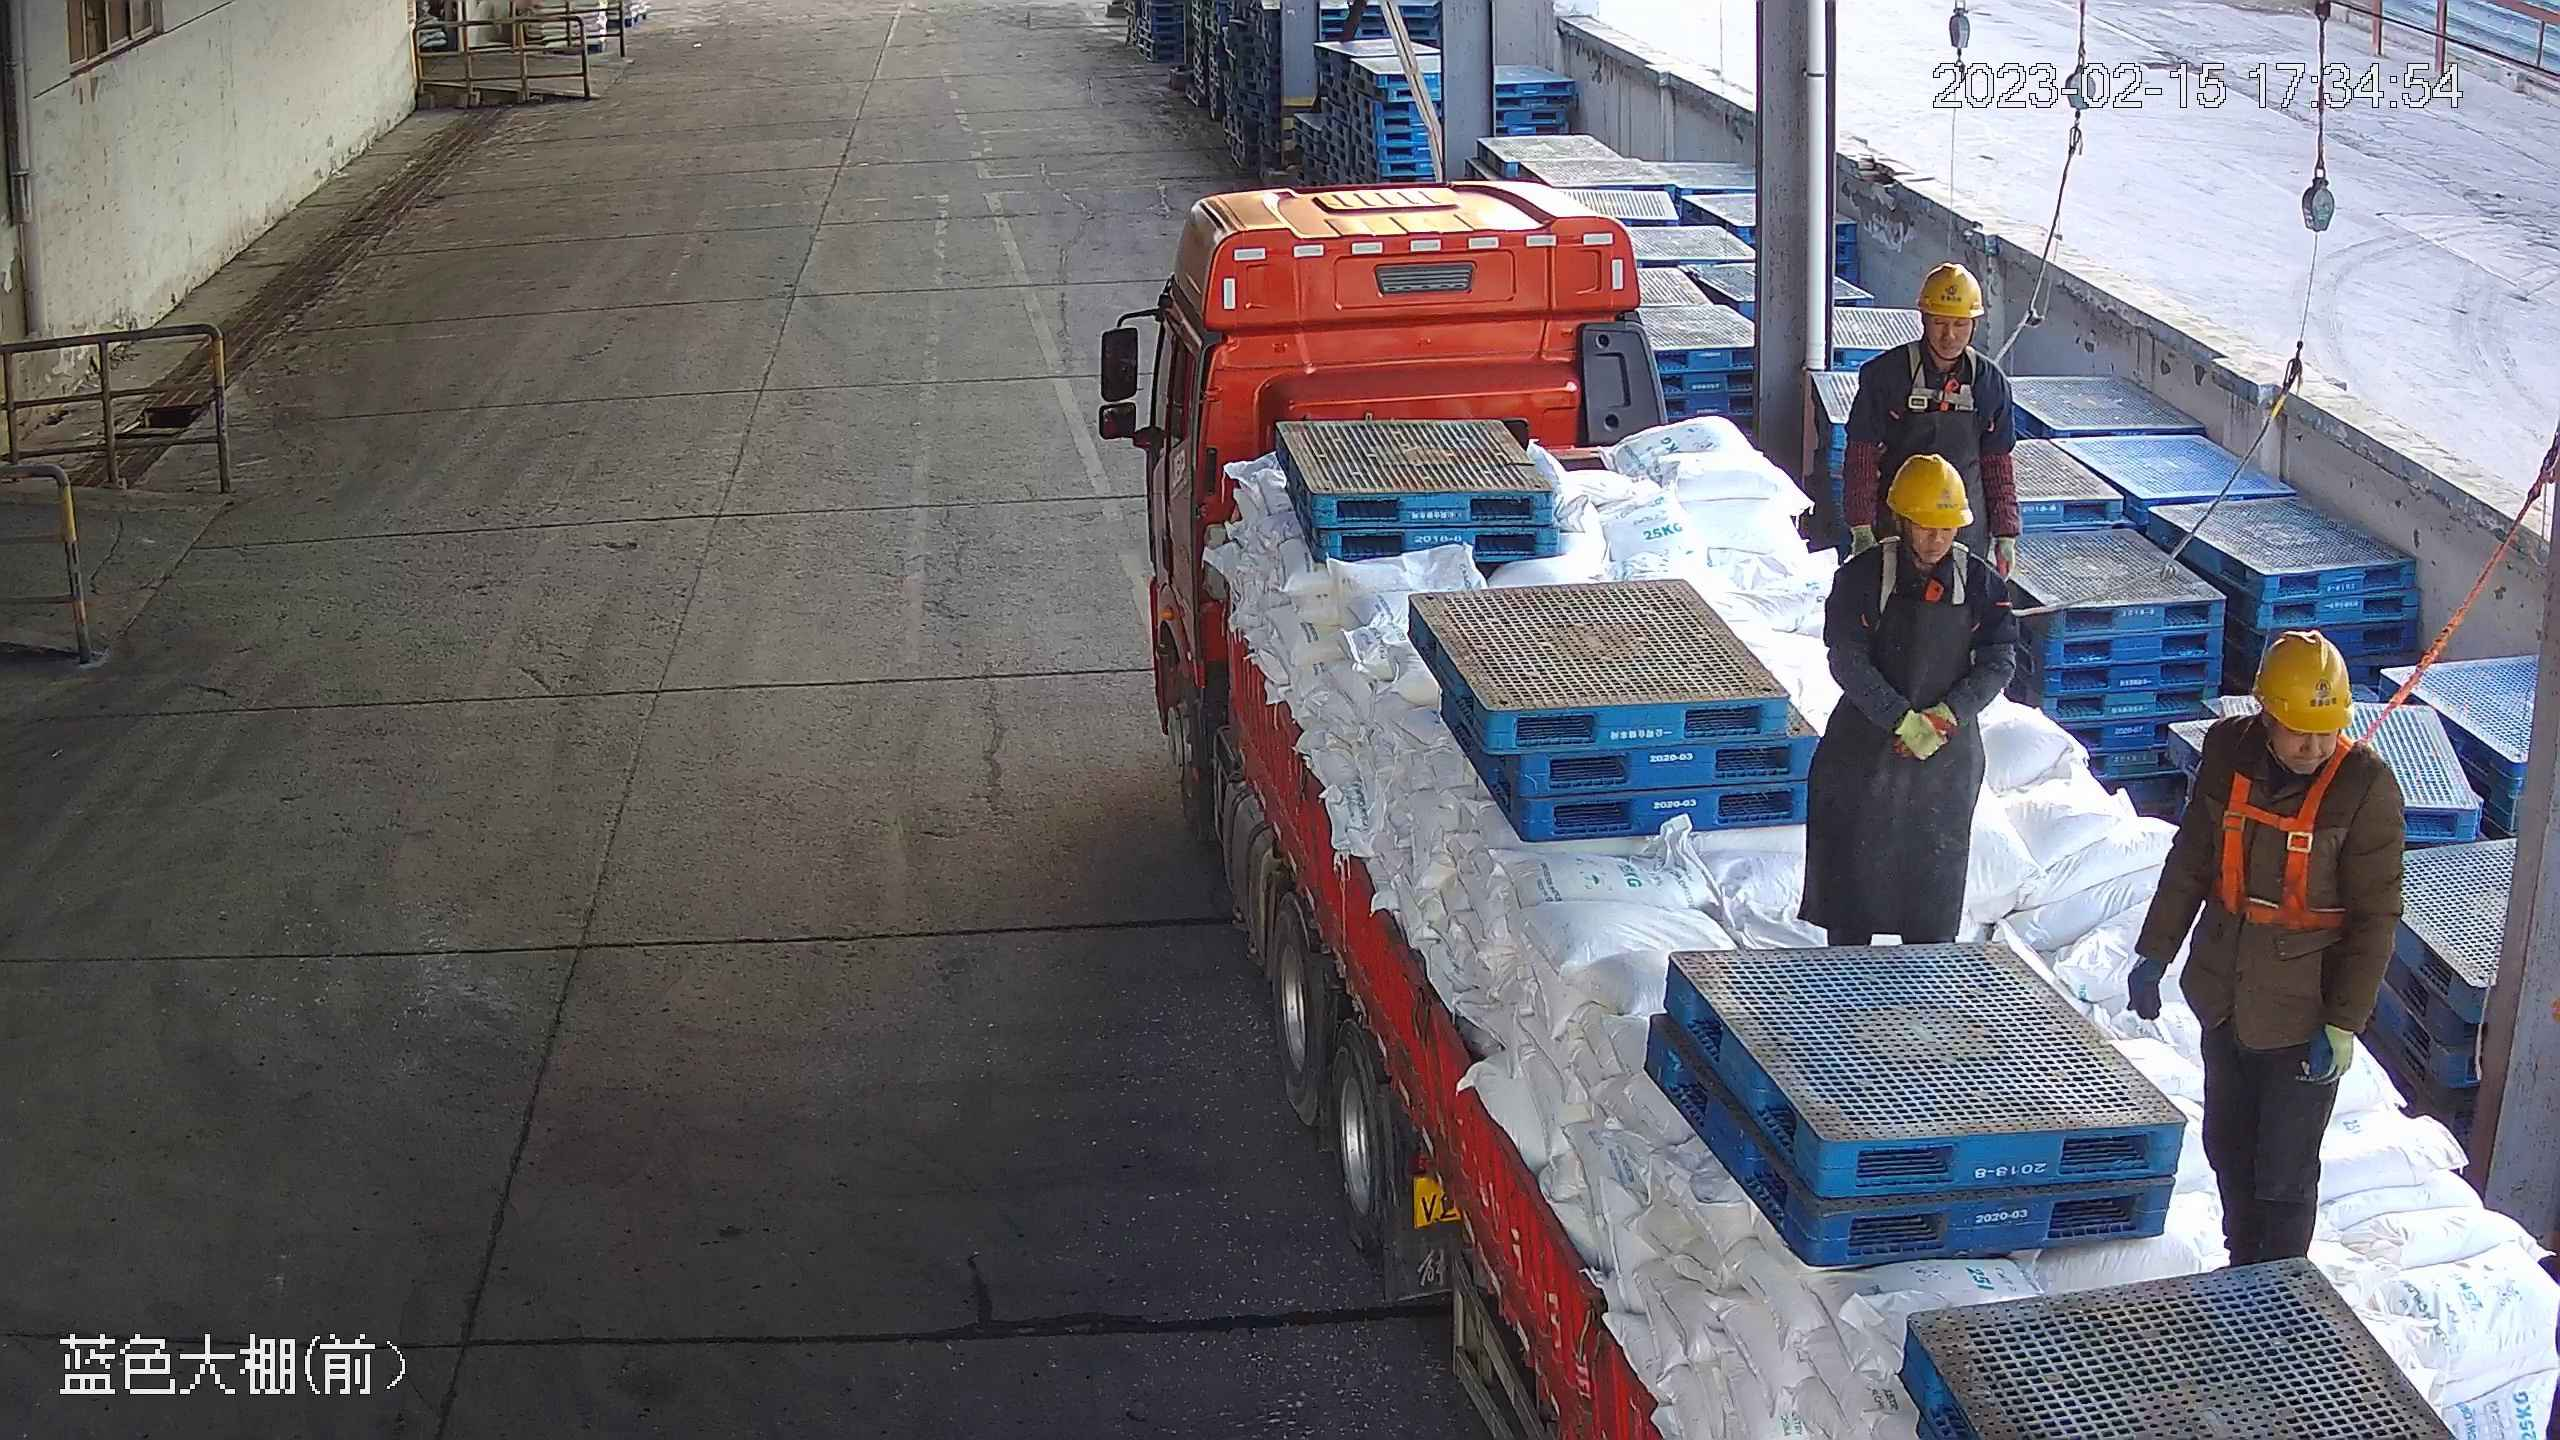belt: (2207, 716, 2388, 936), (1865, 546, 2040, 634), (1893, 340, 2009, 412)
head: (2199, 627, 2400, 803), (1826, 453, 2013, 608), (1853, 263, 2017, 396)
helmet: (2250, 629, 2355, 736), (1884, 450, 1974, 530), (1916, 260, 1982, 320)
people: (2126, 627, 2406, 1270), (1802, 454, 2019, 947), (1830, 261, 2022, 571)
truck: (1139, 178, 2560, 1440)
